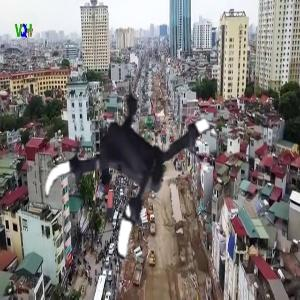drone: (37, 63, 238, 264)
